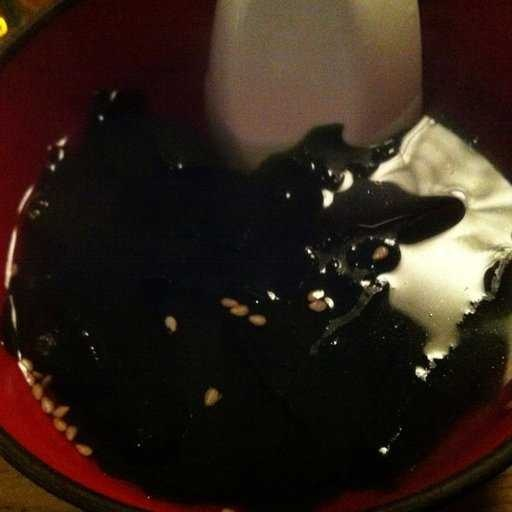soup: (23, 62, 512, 483)
